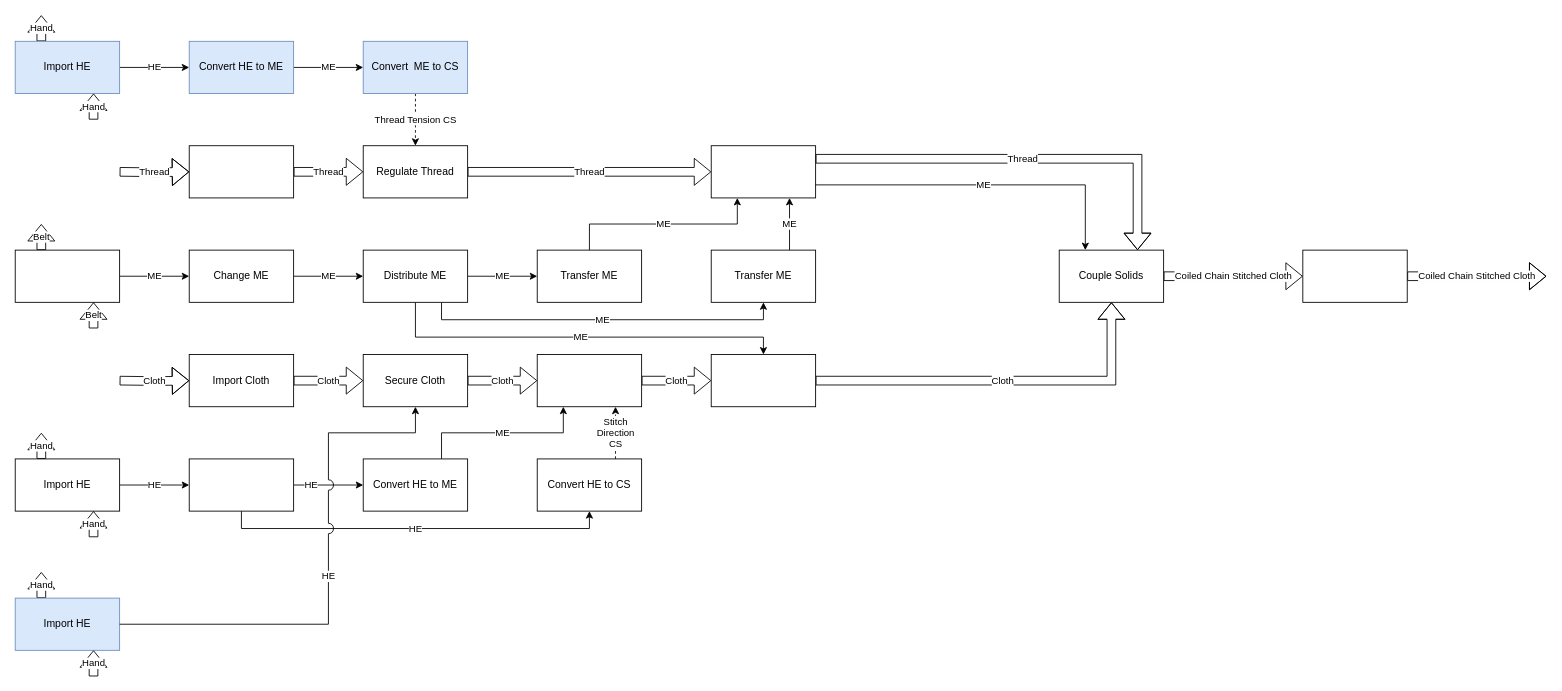
Image size: 1562x691. Some labels were removed from this diagram. Here are the shapes that lost their labels. From the top down, the centre of each, then its label:
pixel 241 171: Import Thread
pixel 763 171: Guide Thread
pixel 67 275: Import ME
pixel 1354 275: Export Solid
pixel 589 380: Regulate Cloth
pixel 763 380: Guide Cloth
pixel 241 484: Distribute HE
